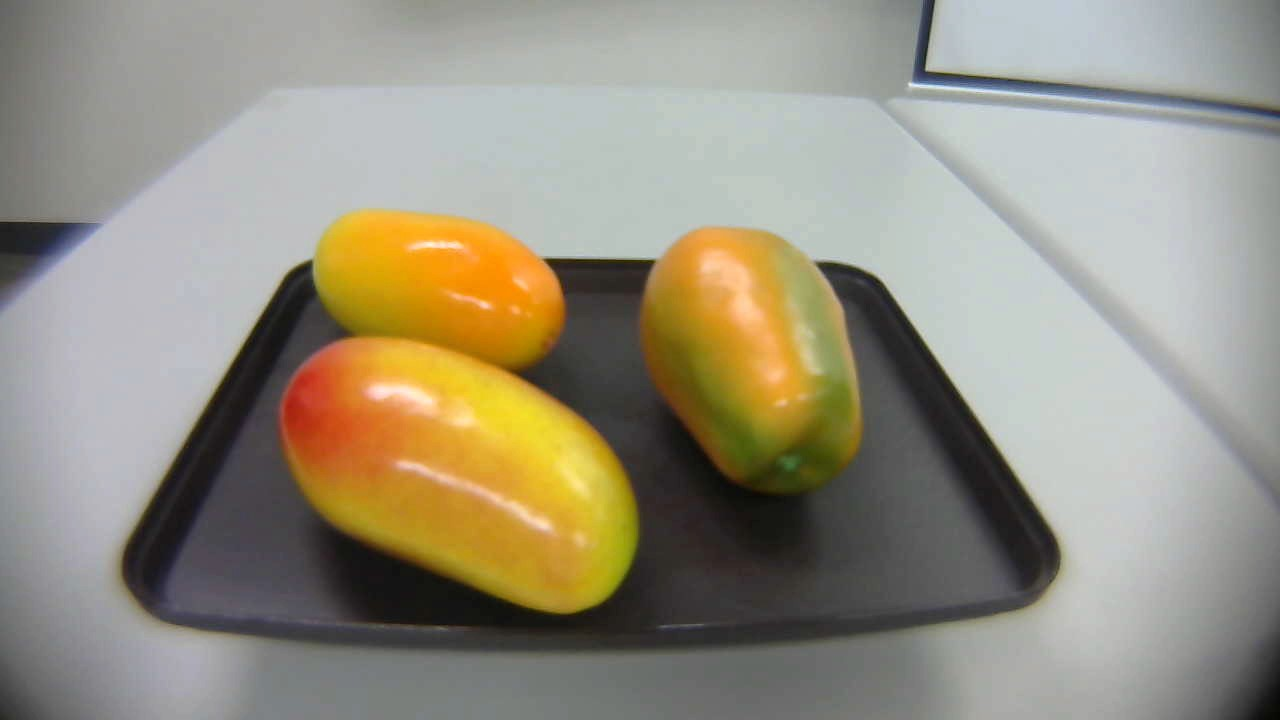papya: (638, 222, 870, 503)
red mango: (276, 335, 651, 622)
yellow mango: (305, 193, 570, 380)
